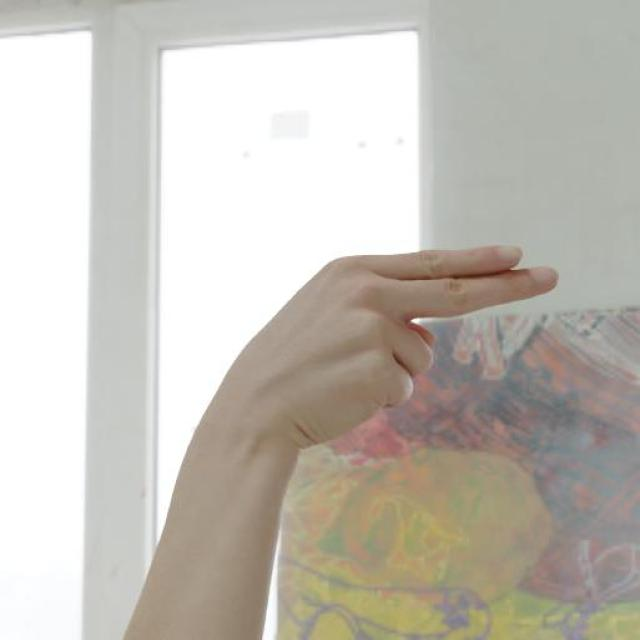H: (182, 241, 564, 449)
